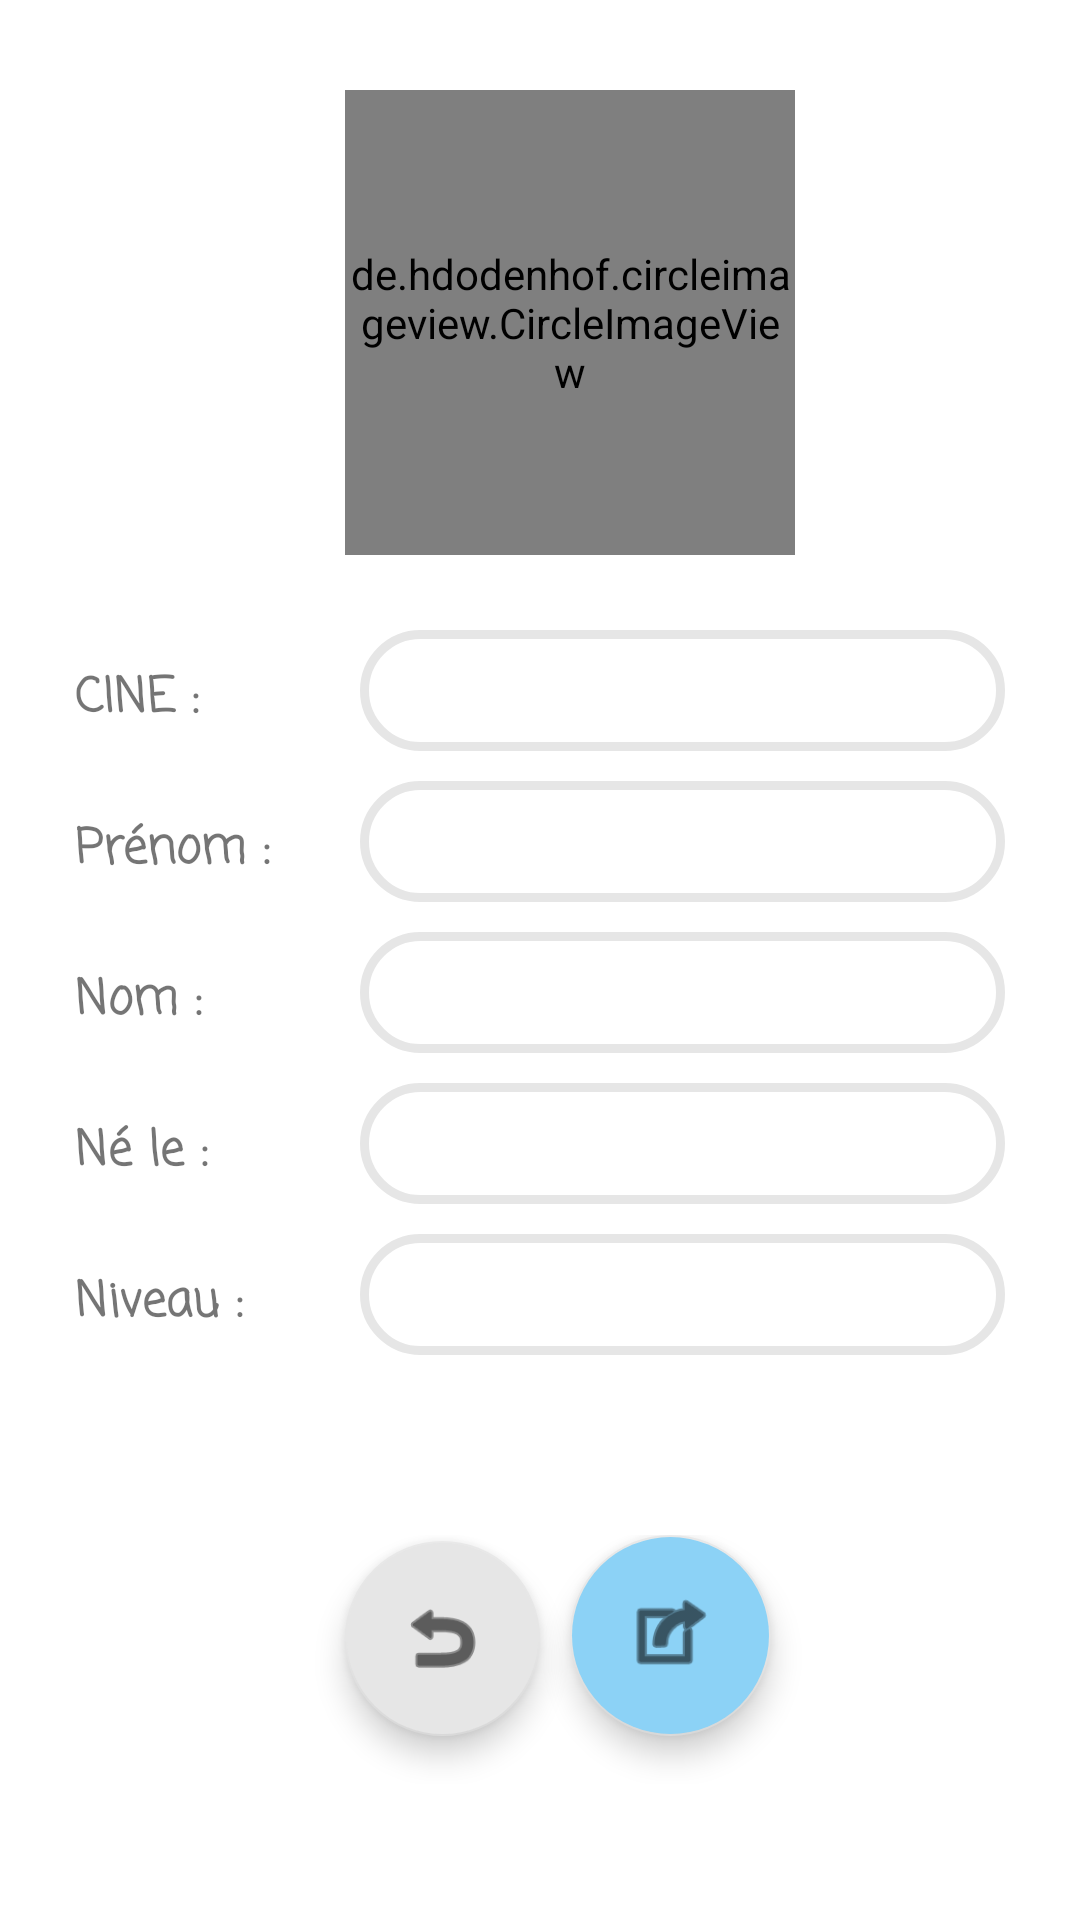

Icon click points for this 1080w x 1920h phone screenshot, format [x,y]:
revert: [442,1638]
set as: [670,1636]
